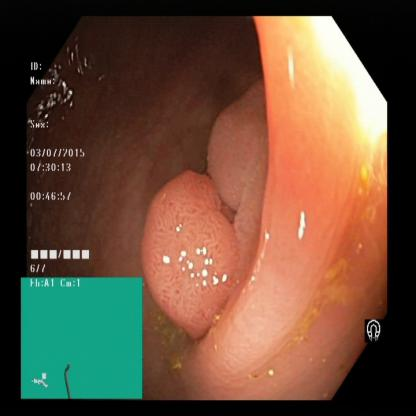Labels: (28, 60, 96, 279), (22, 278, 142, 400)
Polyps: (144, 181, 235, 330), (196, 100, 263, 188)
